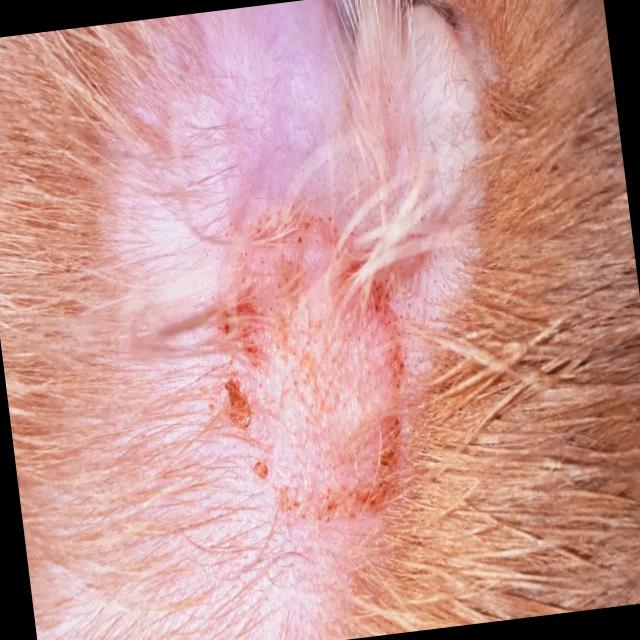Ringworm: (209, 200, 417, 522)
